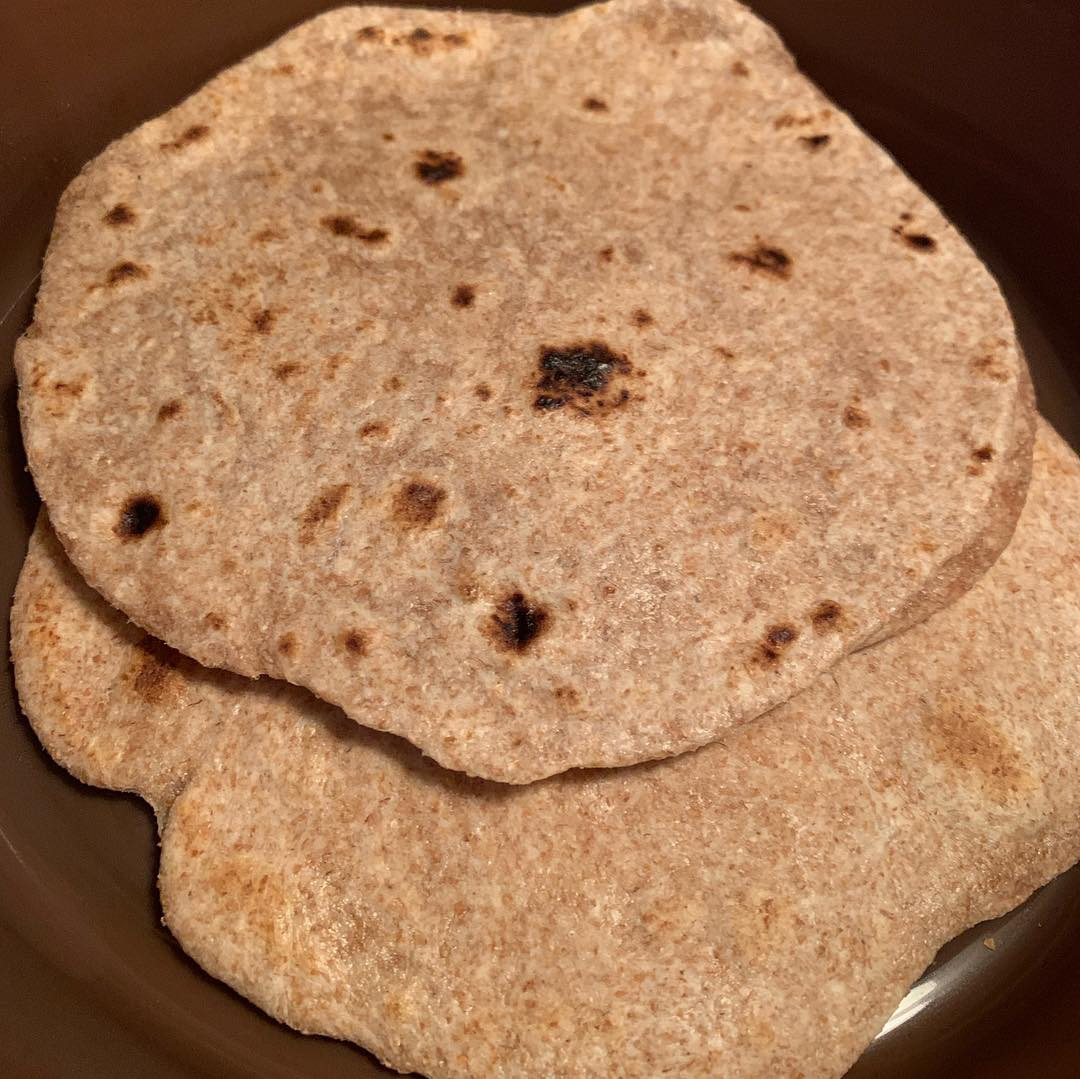roti: (46, 15, 1056, 715), (21, 458, 1080, 1078)
